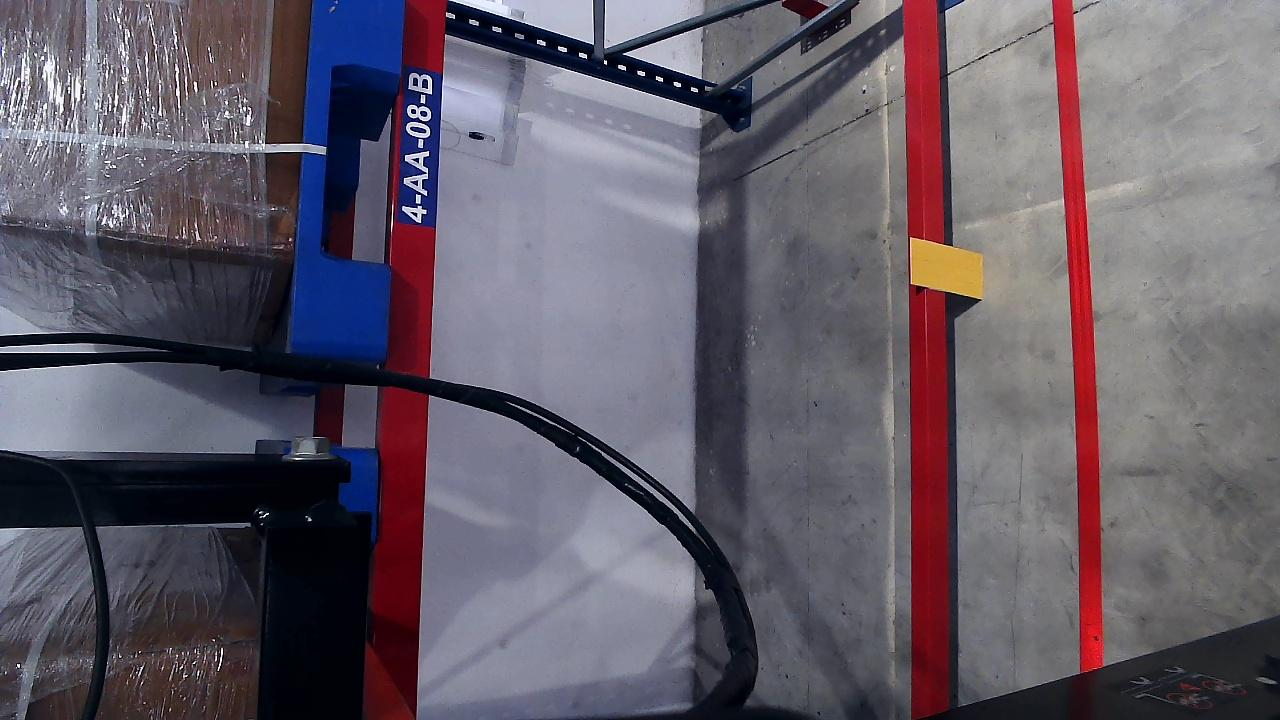h_rack: (898, 1, 955, 714), (398, 2, 438, 719)
orange_strip: (907, 237, 984, 297)
red_line: (1049, 0, 1101, 670)
small_pallet: (282, 0, 407, 359)
